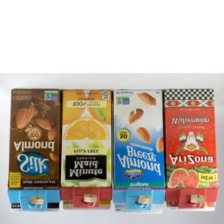carton: (163, 86, 219, 216), (6, 86, 62, 215), (113, 85, 166, 219), (60, 86, 114, 215)
